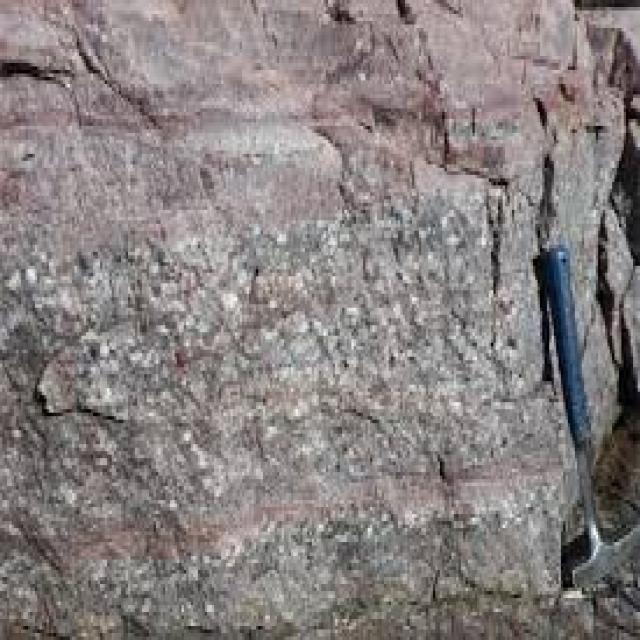Metamorphic: (2, 7, 547, 640)
